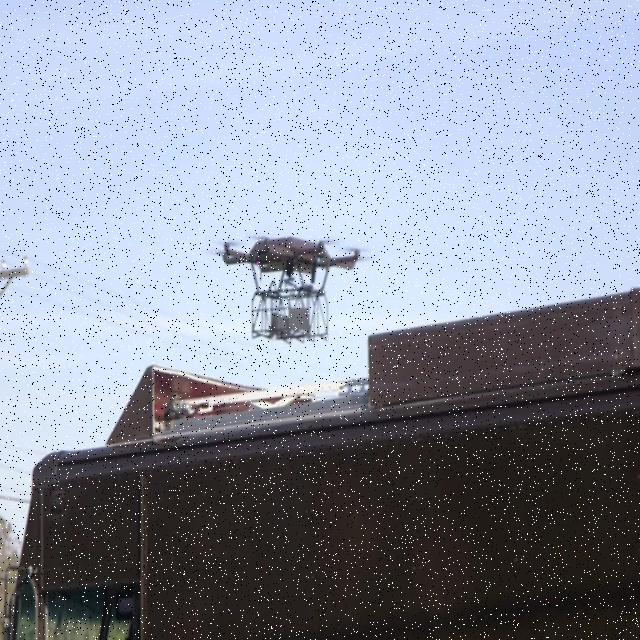UAV: (214, 236, 372, 345)
